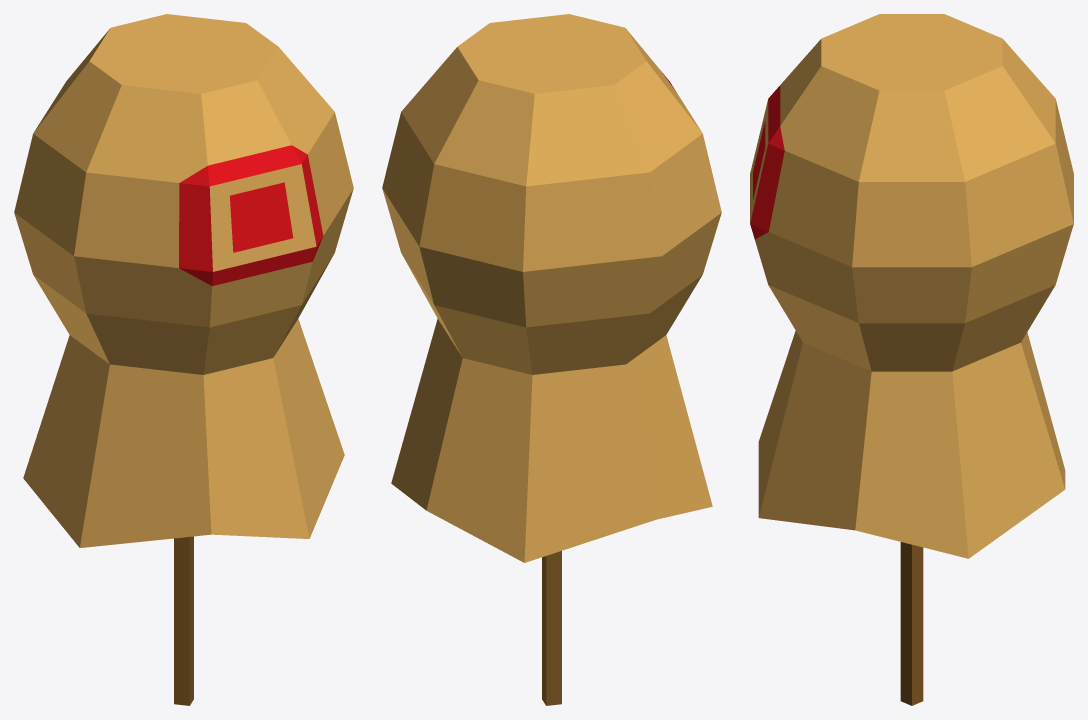
Rendered from Dummy.glb.
3 renders of one model, left to right at view 1: azimuth 30°, elevation 25°; view 2: azimuth 150°, elevation 25°; view 3: azimuth 270°, elevation 25°, orthographic.
Parts seen in each view (by area): view 1: Dummy; view 2: Dummy; view 3: Dummy.
Part boxes in pixels (x1,y1,x2,y2): Dummy: [14, 14, 353, 705]; Dummy: [382, 14, 721, 705]; Dummy: [750, 14, 1073, 705].
Size of the model in its own units: 0.9006 by 1.99 by 0.9006.
